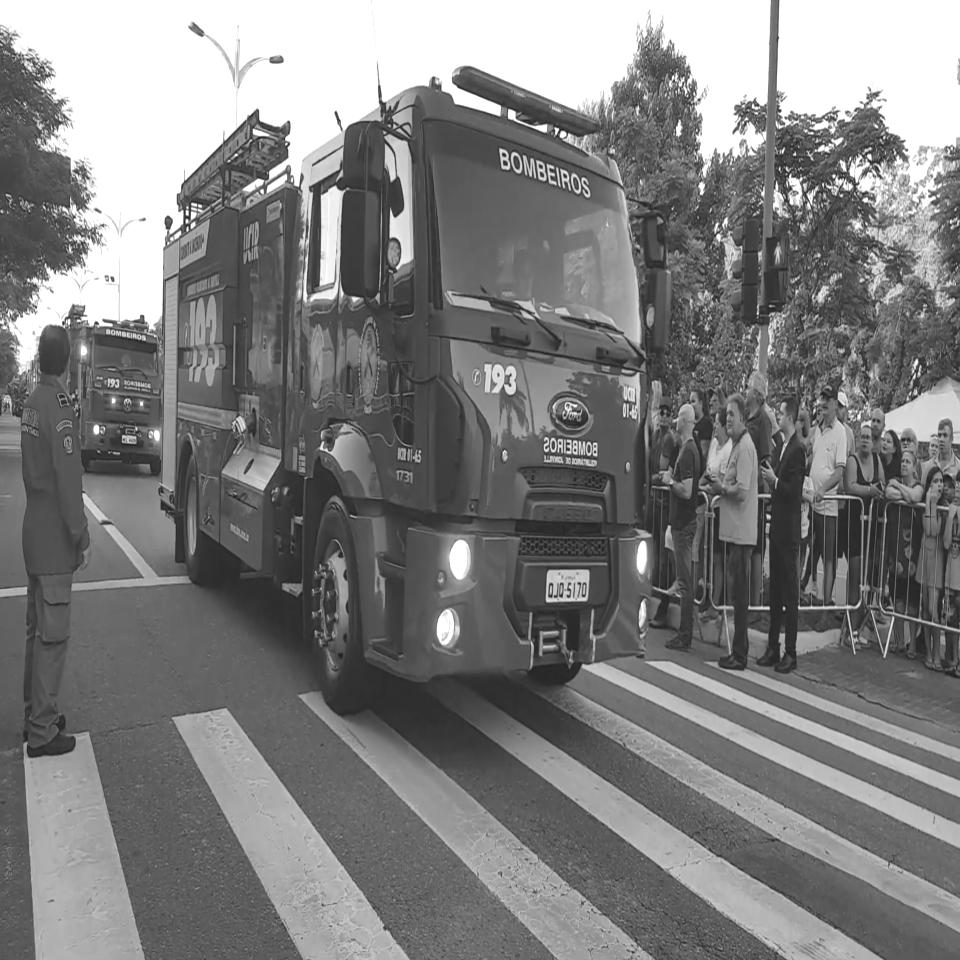bombeiro: (159, 61, 652, 723)
